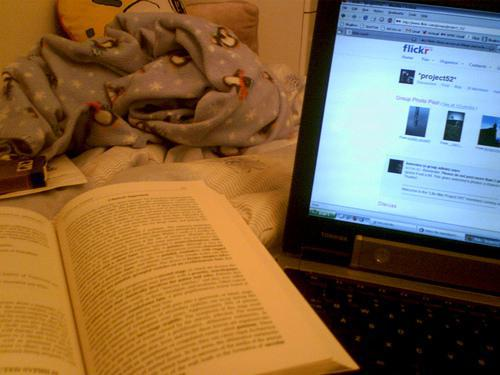tv: (322, 1, 492, 283)
